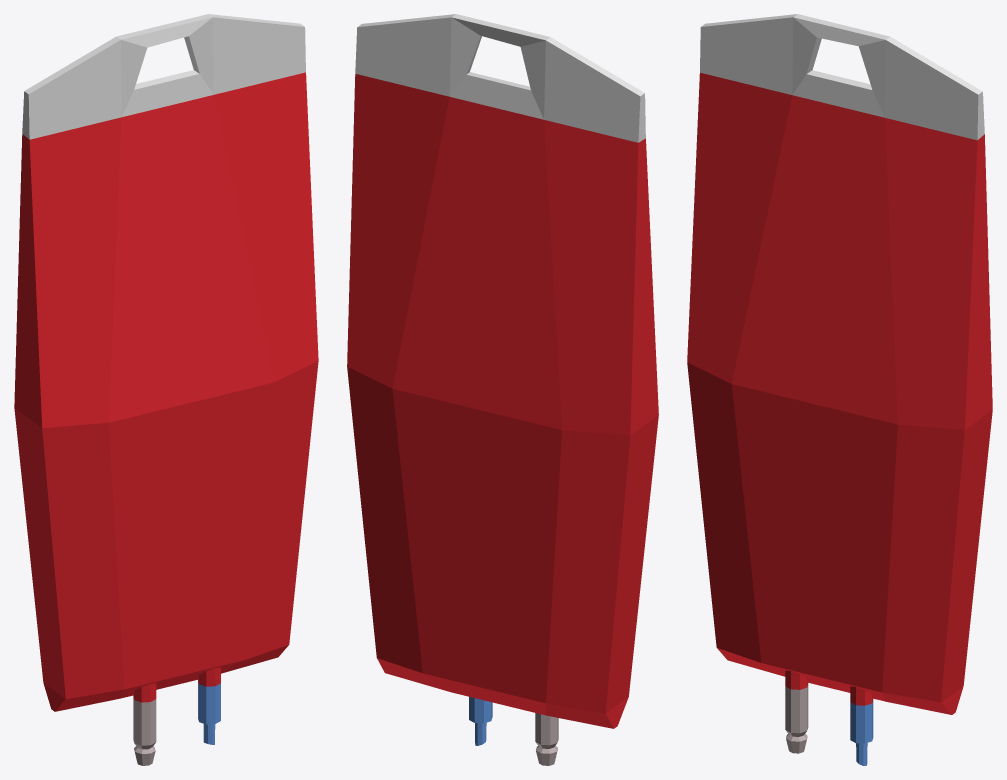
File: Blood_bag.fbx
3 views of the same model, side by side, from view 1: azimuth 30°, elevation 25°; view 2: azimuth 150°, elevation 25°; view 3: azimuth 330°, elevation 25° (orthographic). The views are drawn at different scales.
Parts seen in each view (by area): view 1: Cube; view 2: Cube; view 3: Cube.
Boxes of the visible parts, box(x1,y1,x2,y2) form: Cube: box(14, 14, 318, 765); Cube: box(347, 14, 658, 765); Cube: box(687, 14, 992, 765).
Bounding box in the file's own units: 10.5 × 26.08 × 3.29.
